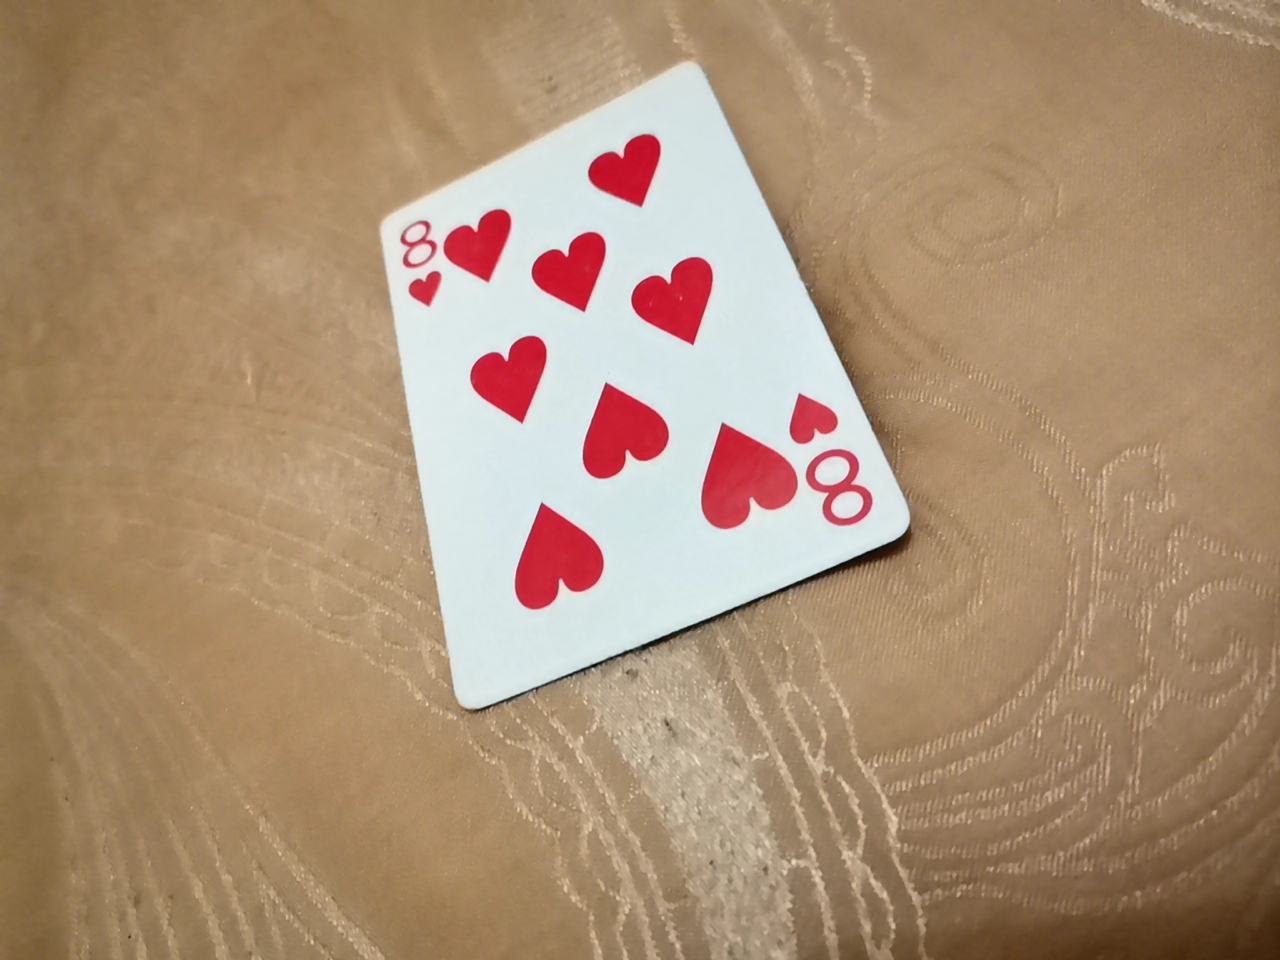hx 8: (370, 66, 907, 707)
